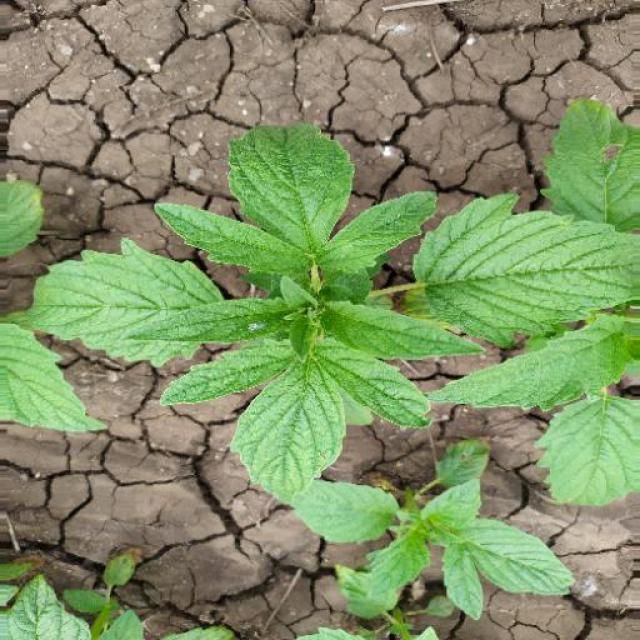crop: (1, 79, 640, 492), (256, 459, 596, 640)
